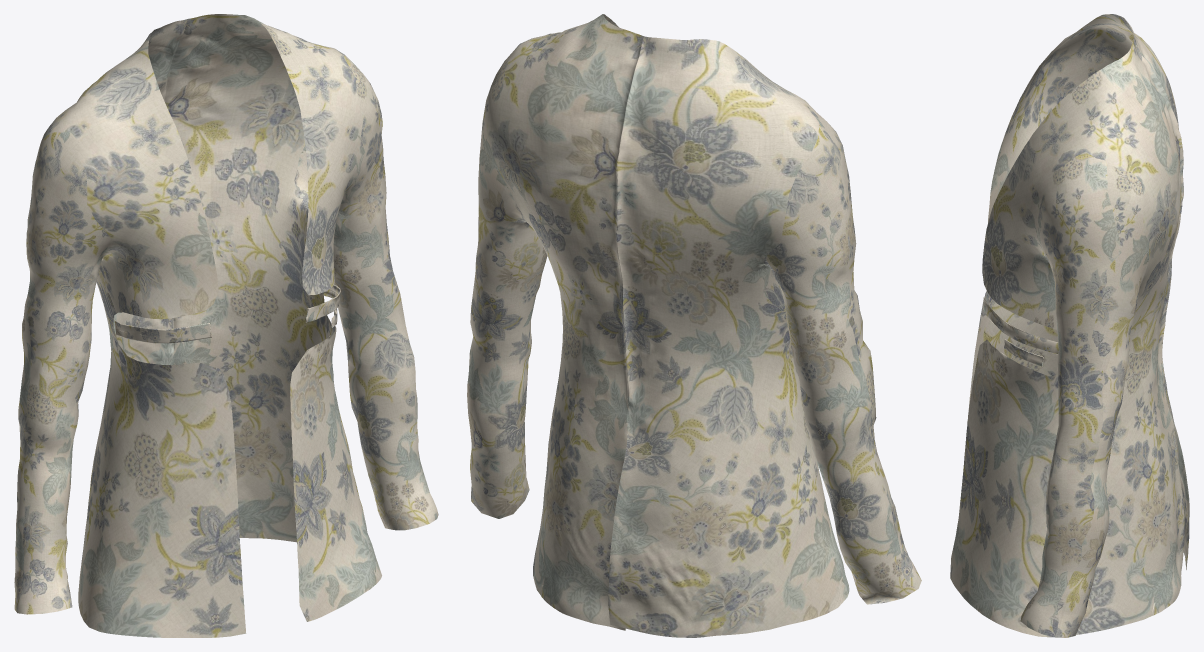
The model's file is full_lining_centre_vent.glb.
3 views of the same model, side by side, from view 1: azimuth 30°, elevation 25°; view 2: azimuth 150°, elevation 25°; view 3: azimuth 270°, elevation 25° (orthographic). The views are drawn at different scales.
Parts seen in each view (by area): view 1: lining_centre_vent.003, Cloth.002; view 2: lining_centre_vent.003; view 3: lining_centre_vent.003, Cloth.002.
Part boxes in pixels (x1,y1,x2,y2): lining_centre_vent.003: [14, 14, 438, 637]; Cloth.002: [114, 284, 340, 343]; lining_centre_vent.003: [467, 14, 921, 637]; lining_centre_vent.003: [950, 14, 1189, 637]; Cloth.002: [983, 297, 1058, 366].
Bounding box in the file's own units: 59.52 × 74.48 × 30.05.
1 material, 1 textured.
